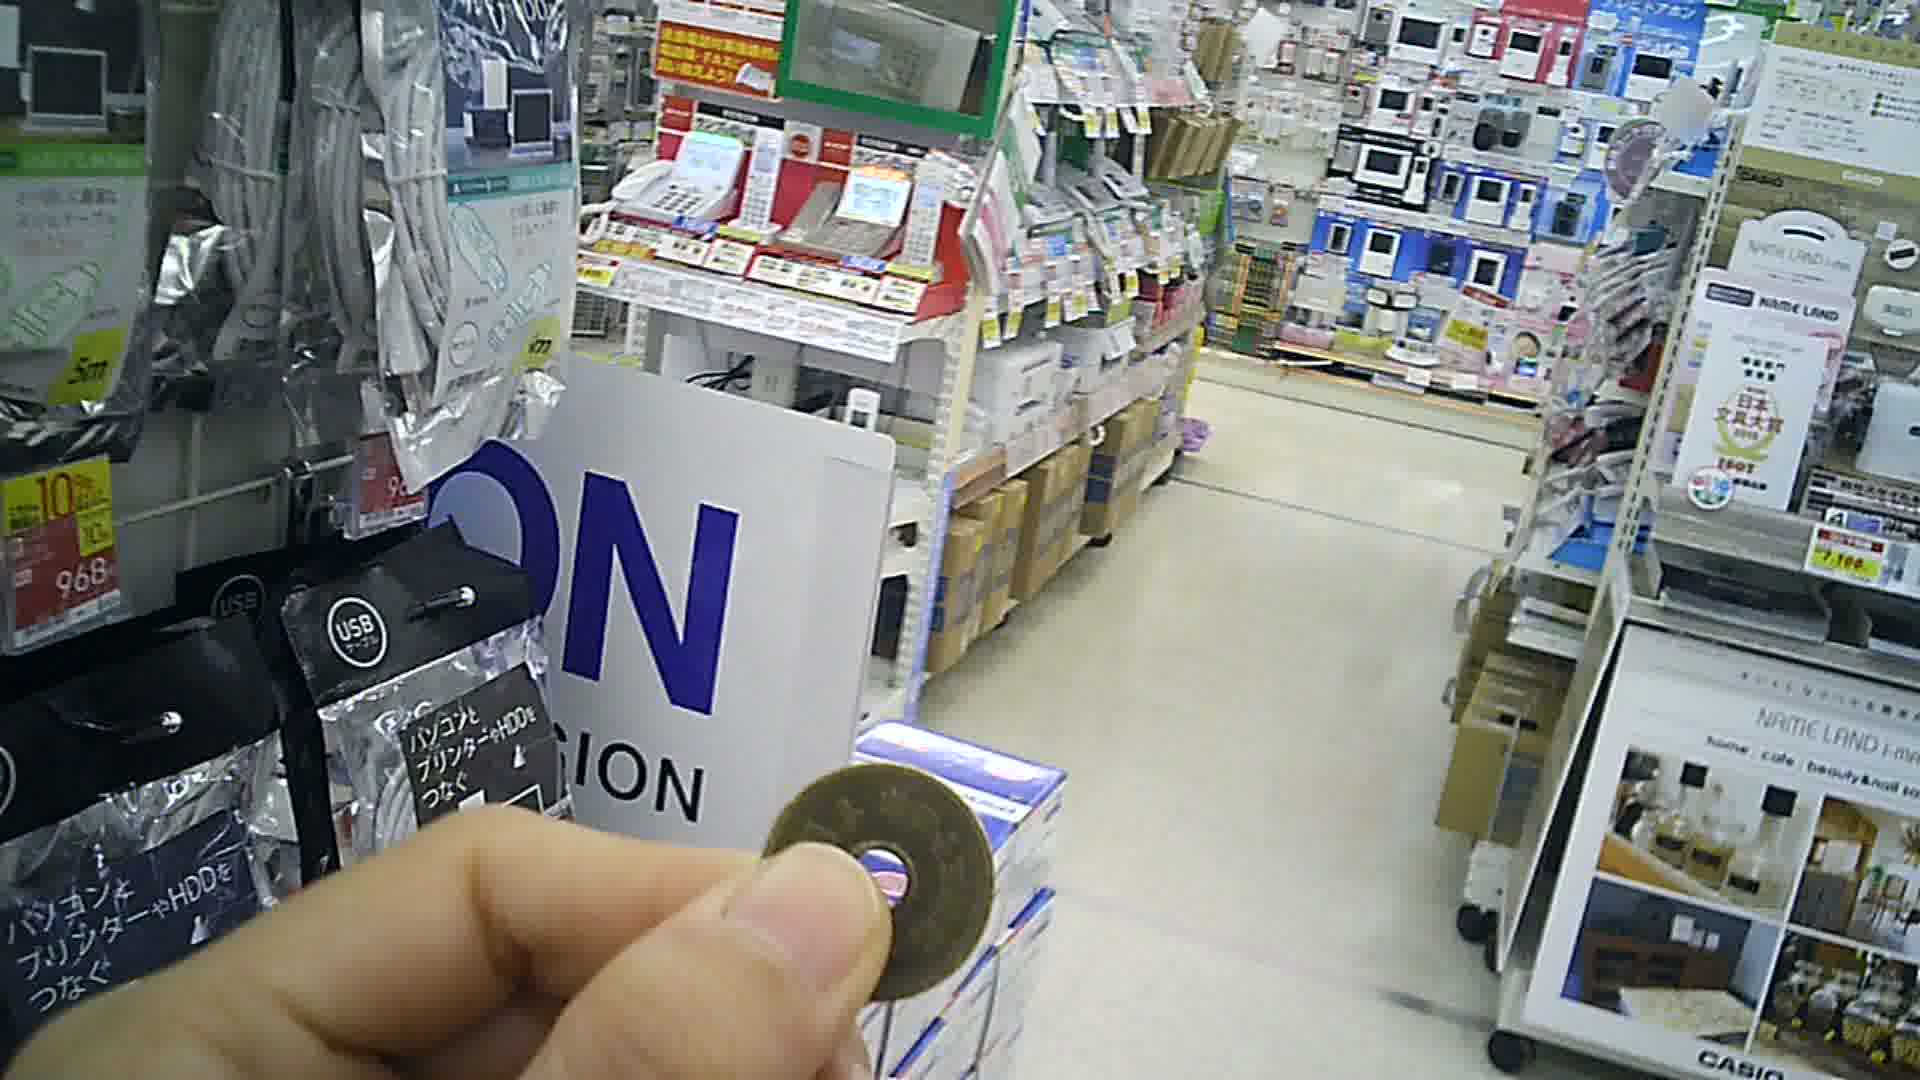5 Yen: (750, 757, 1000, 1004)
